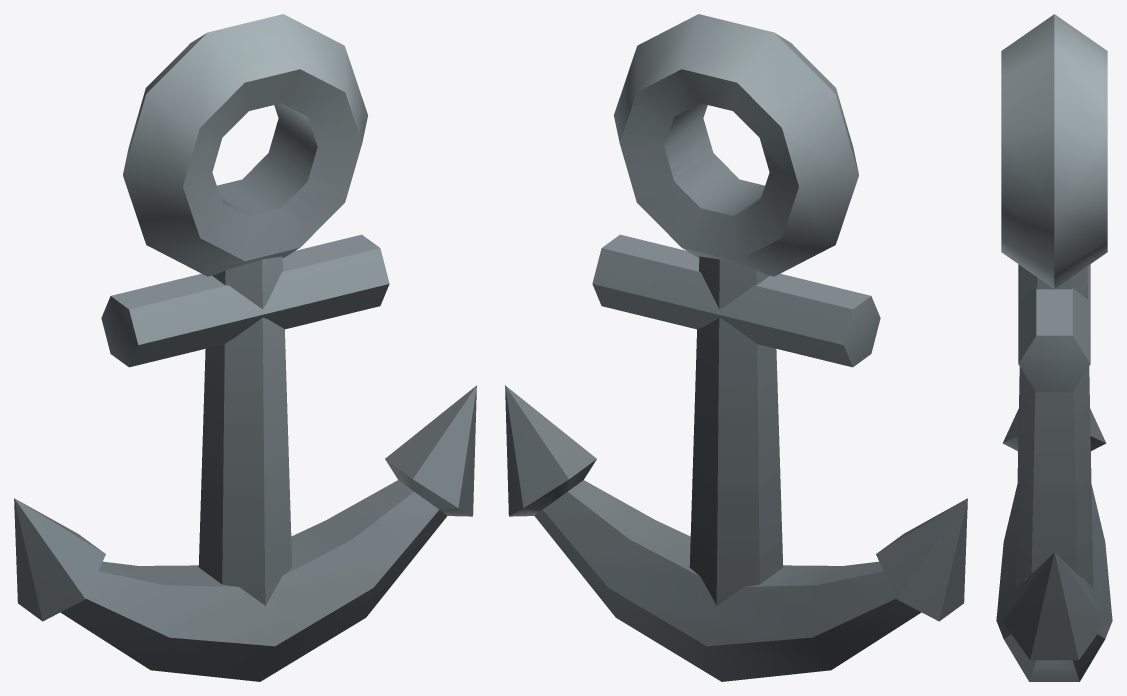
The model's file is hex_anchor.glb.
3 views of the same model, side by side, from view 1: azimuth 30°, elevation 25°; view 2: azimuth 150°, elevation 25°; view 3: azimuth 270°, elevation 25° (orthographic). The views are drawn at different scales.
Visible parts, largest first — view 1: anchor; view 2: anchor; view 3: anchor.
Part boxes in pixels (x1,y1,x2,y2): anchor: (14, 14, 476, 681); anchor: (505, 14, 967, 681); anchor: (996, 14, 1112, 681).
Bounding box in the file's own units: 0.2178 × 0.2914 × 0.0484.
1 material, 1 textured.
